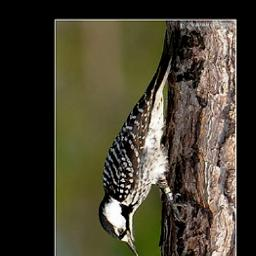Woodpecker: (98, 27, 192, 256)
